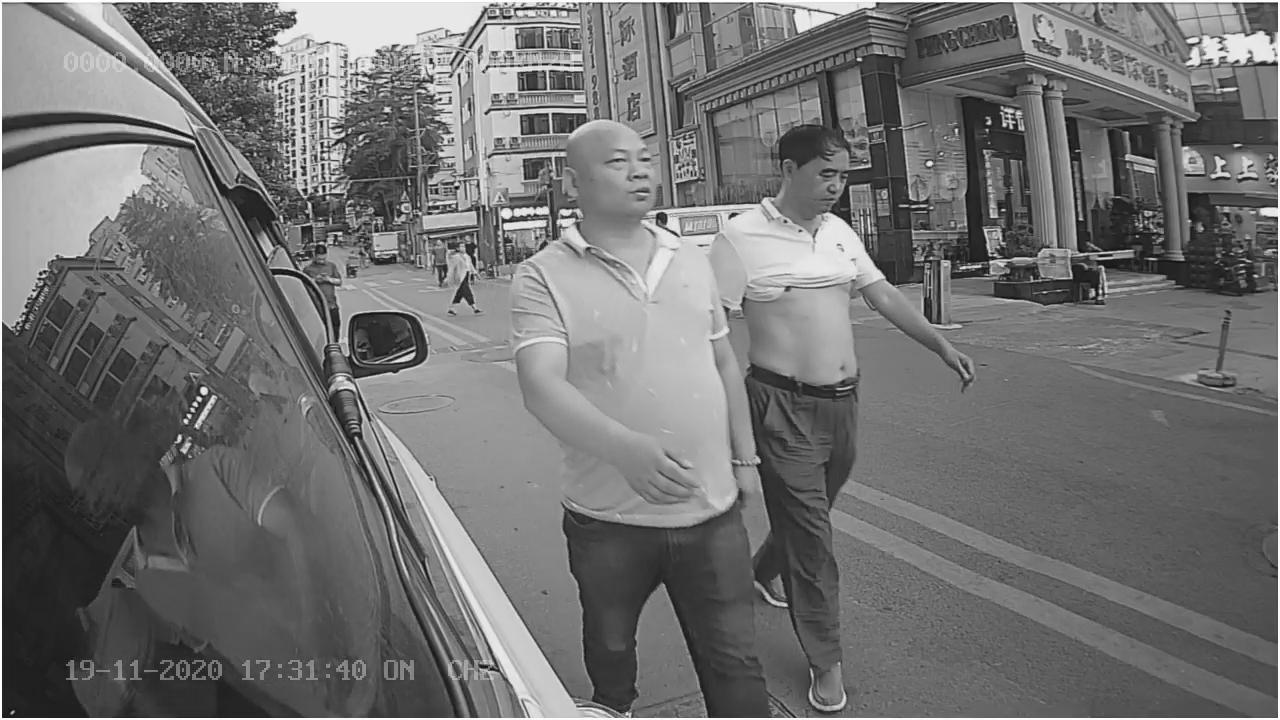person: (506, 119, 754, 591)
